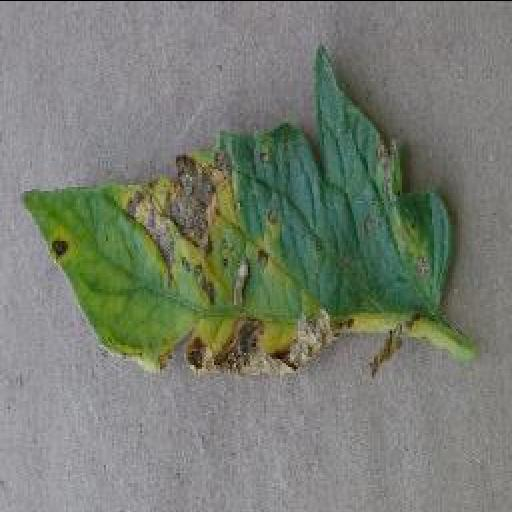disease_tomato: (20, 45, 450, 377)
